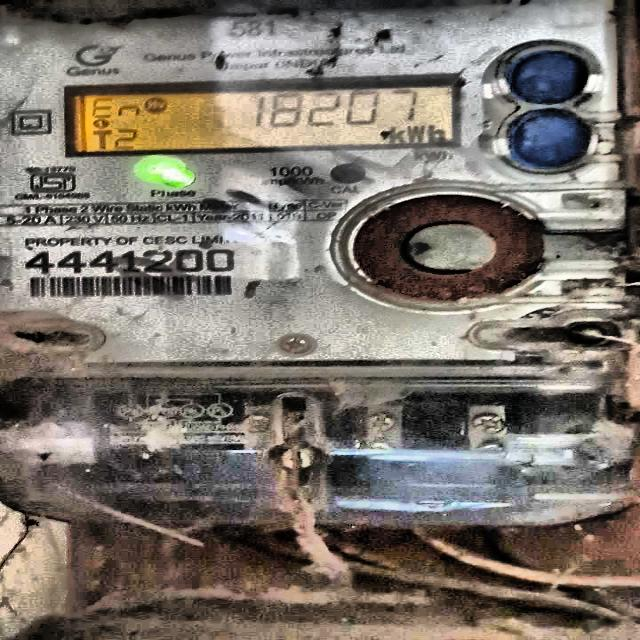Digital: (0, 0, 640, 390)
Reading: (236, 87, 434, 126)
Serial No.: (23, 250, 245, 274)
